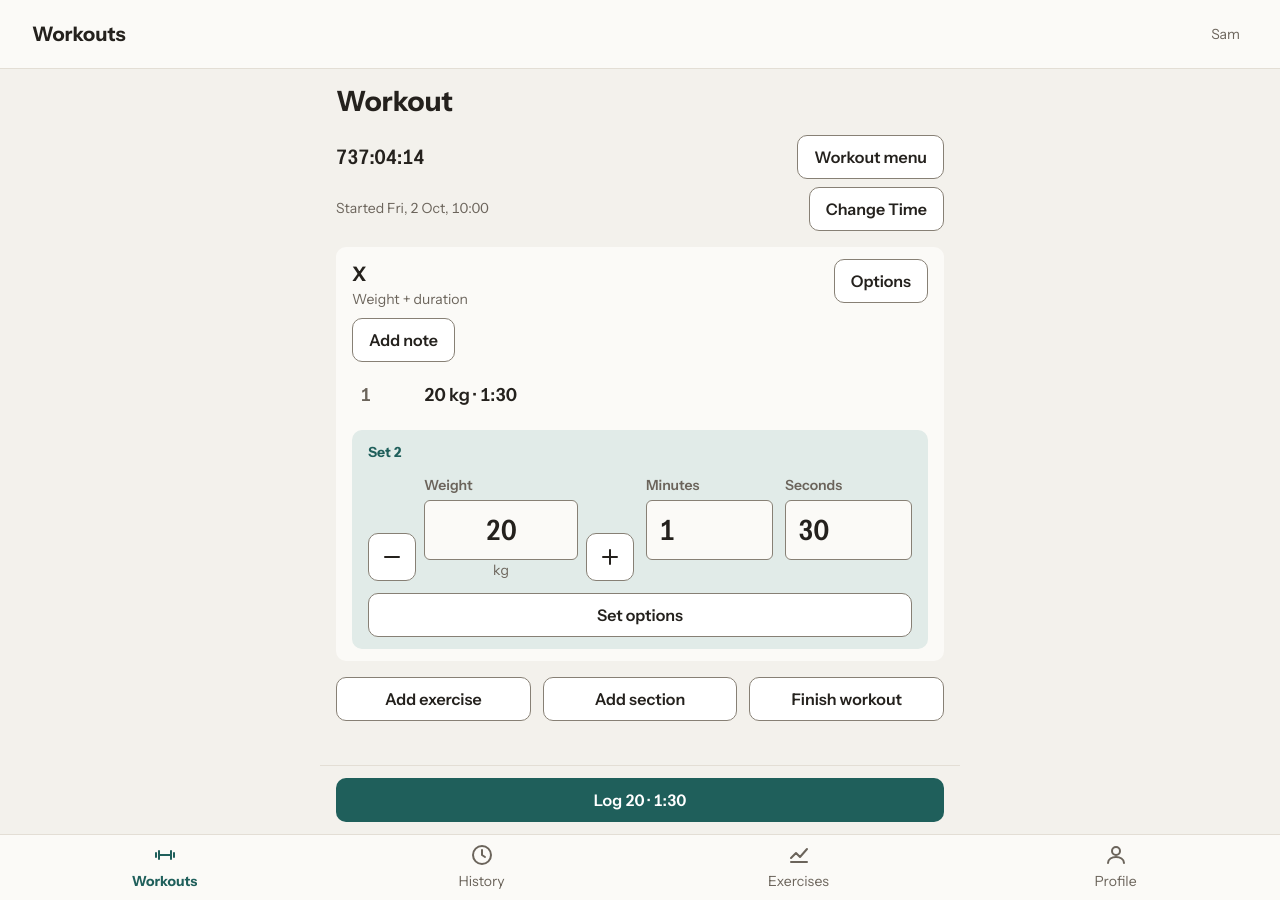
Test: 18.1 AC20 — the live set sheet › a hold opens with Weight + unit and Minutes / Seconds prefilled
Expected: the heading "Workout" is shown, [336,84,453,118]
Click the button "1 20 kg · 1:30": (470, 395) [352,374,928,418]
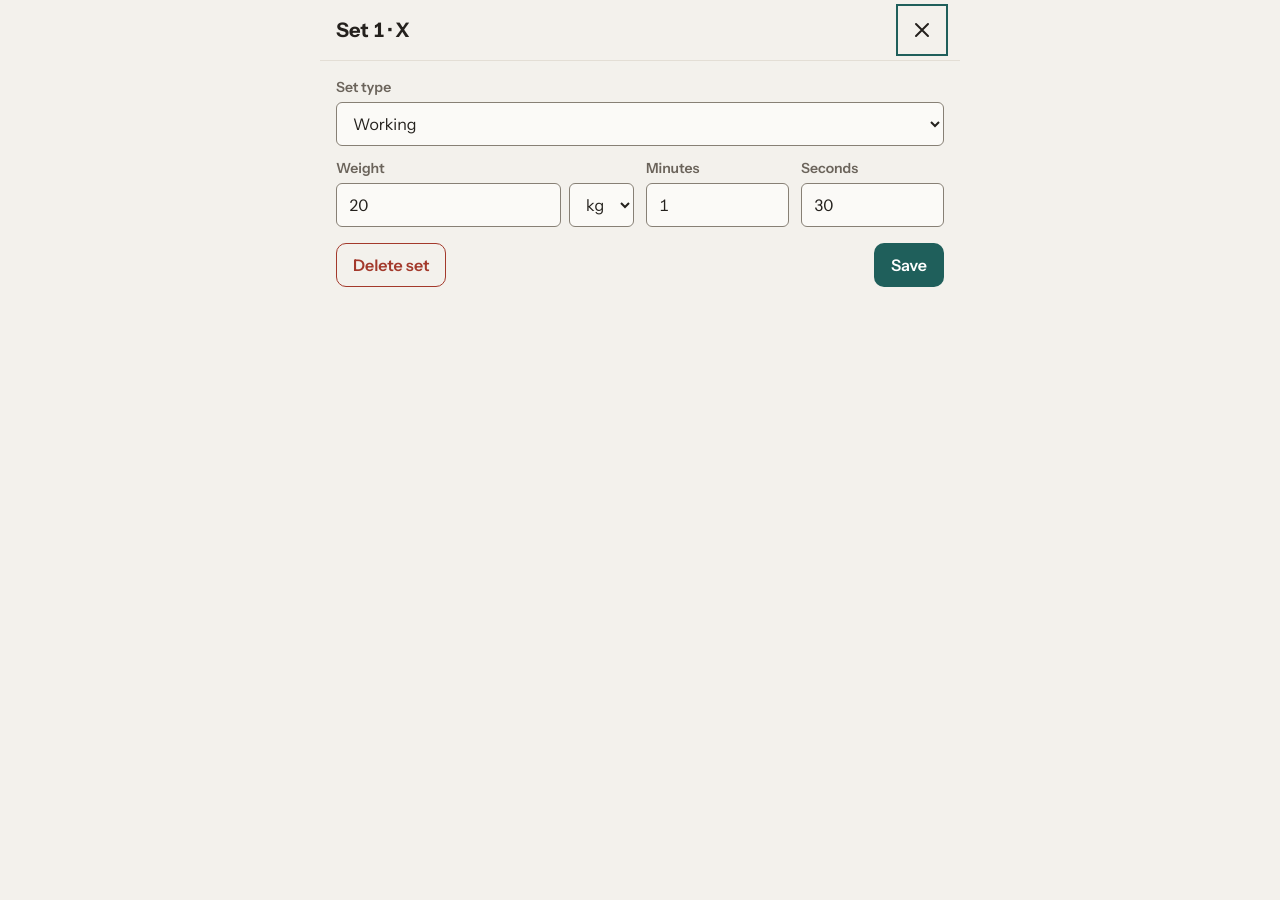
Result: the field labelled "Weight" holds "20" at [336,183,561,227]
Result: the field labelled "Minutes" holds "1" at [646,183,789,227]
Result: the field labelled "Seconds" holds "30" at [801,183,944,227]
